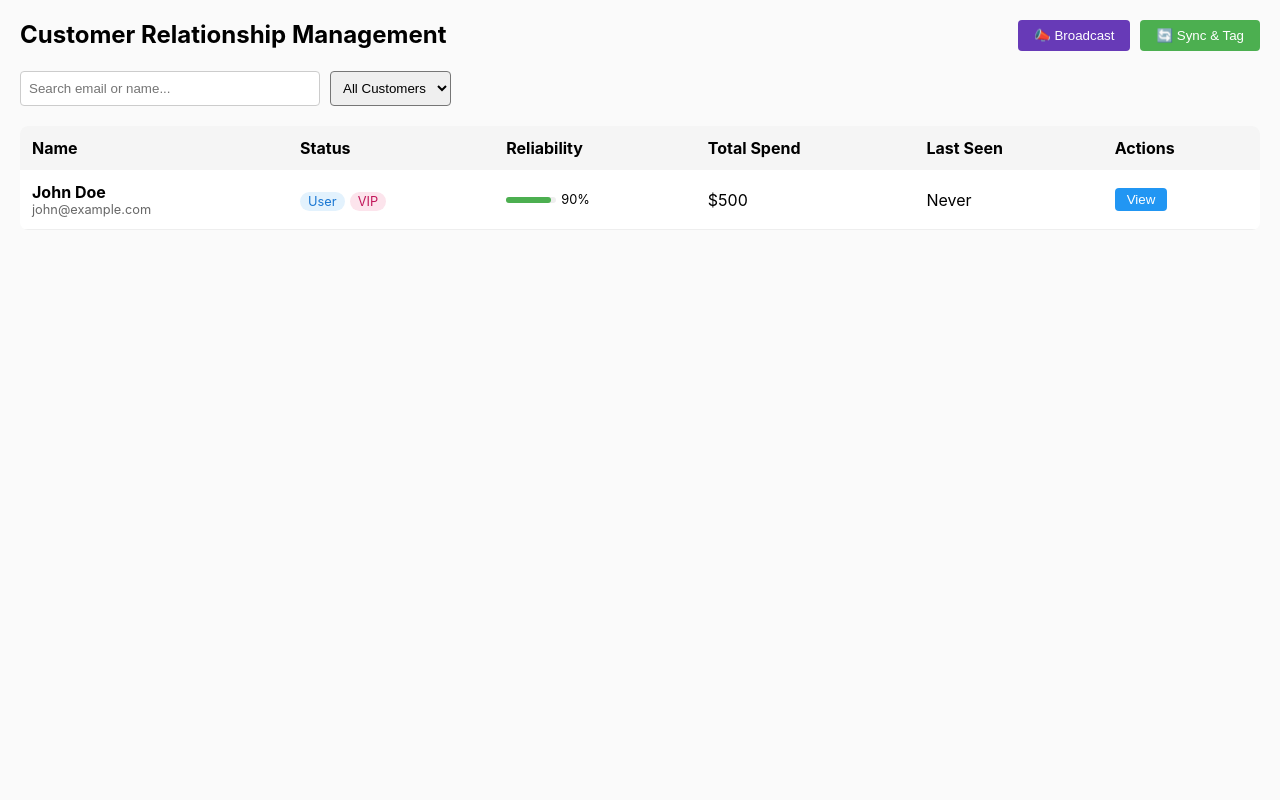
Test: CRM Component › opens broadcast modal
Click the button "📣 Broadcast" at (1074, 36), box [1018,20,1130,51]
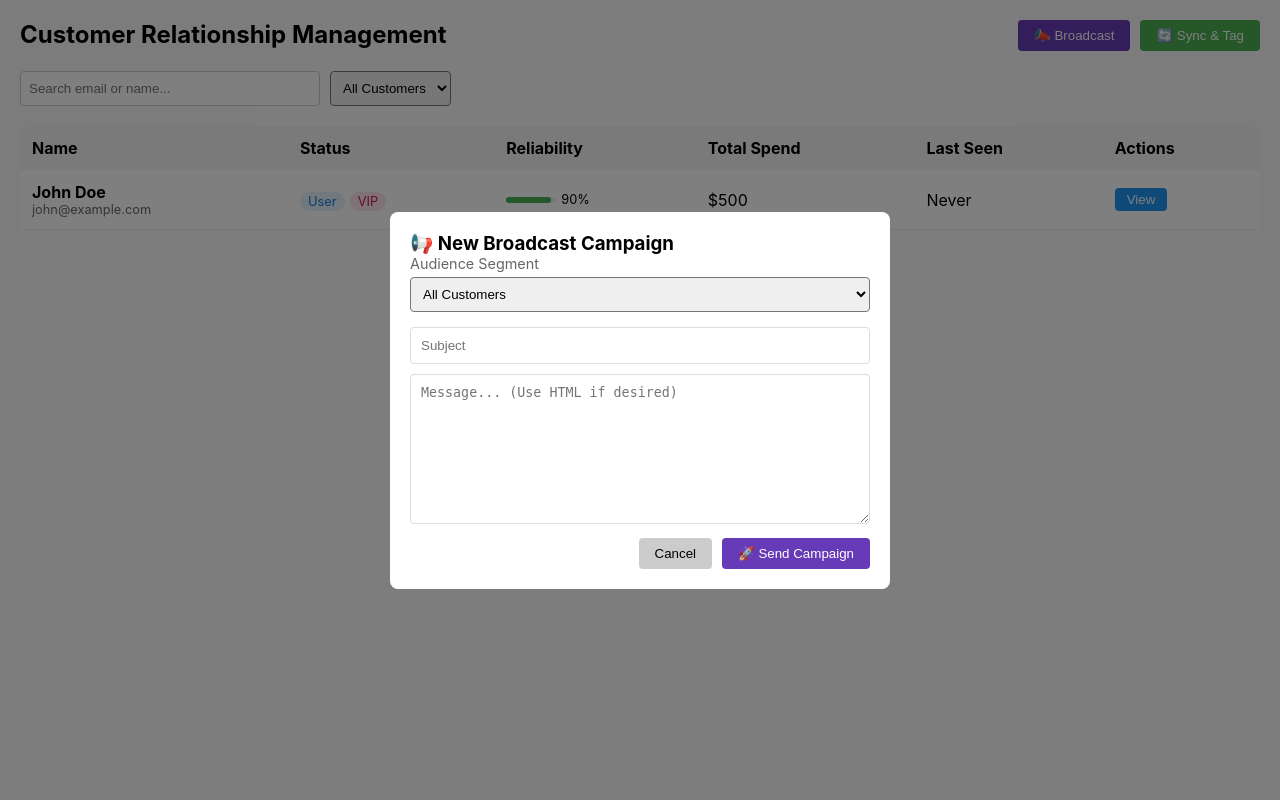
Now the heading "📢 New Broadcast Campaign" is shown, box [410,232,674,254]
